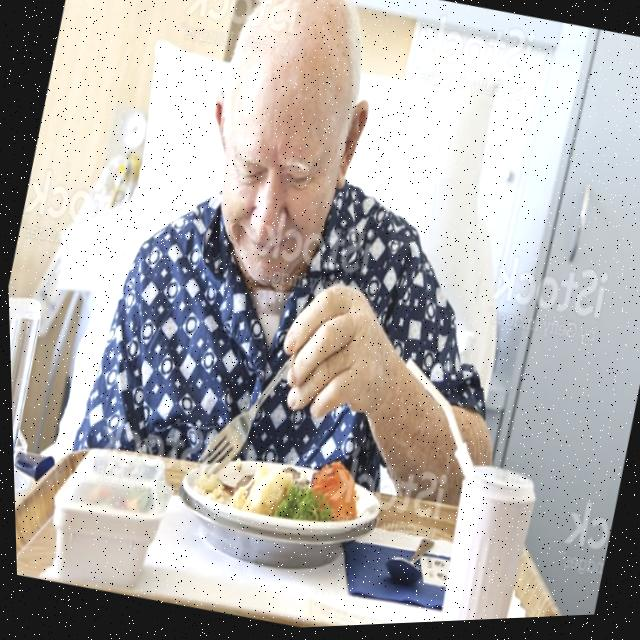eating-person: (31, 0, 530, 627)
